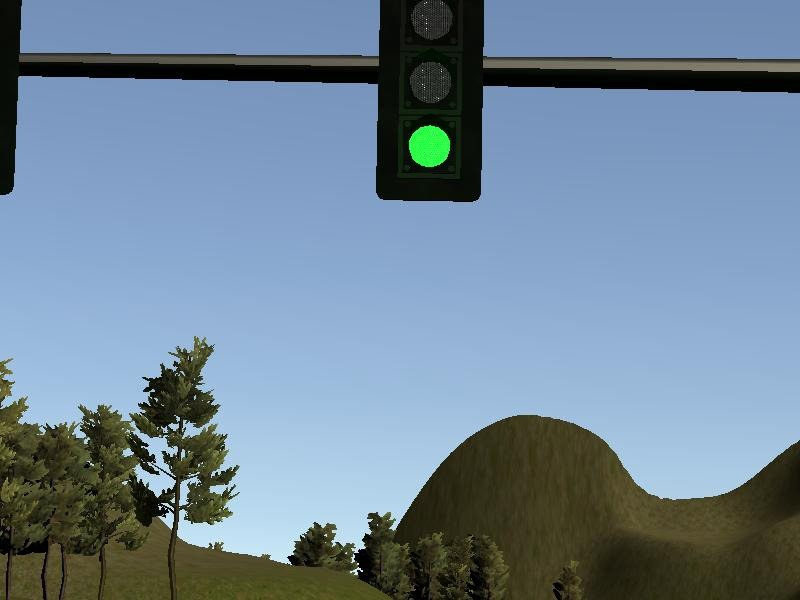green: (376, 1, 483, 201)
